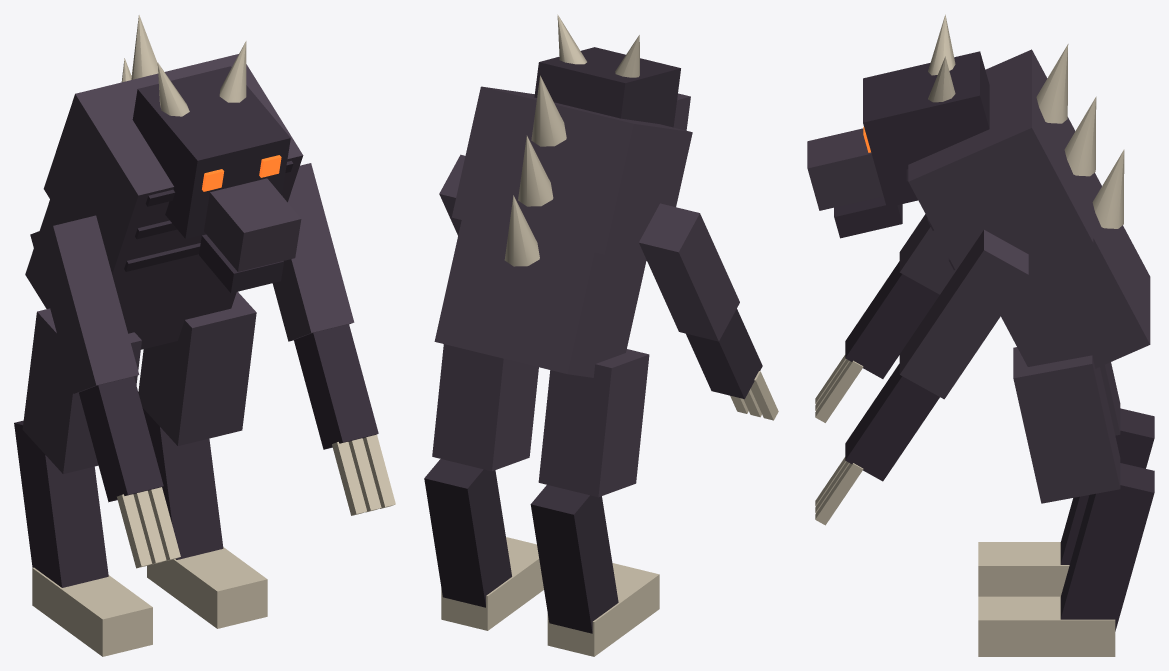
The model's file is hunter.glb.
3 views of the same model, side by side, from view 1: azimuth 30°, elevation 25°; view 2: azimuth 150°, elevation 25°; view 3: azimuth 270°, elevation 25° (orthographic). The views are drawn at different scales.
Parts seen in each view (by area): view 1: Thigh (×2), UpperArm (×2), Chest, Shin (×2), HeadSkull, Forearm (×2), ClawFoot (×2), Belly, Snout, Claw0 (×2), Claw1 (×2), Claw2 (×2) (+5 smaller); view 2: Belly, Thigh (×2), Chest, Shin (×2), UpperArm (×2), ClawFoot (×2), HeadSkull, Forearm, Spike0, Spike2, Spike1, HornR (+2 smaller); view 3: Chest, Belly, UpperArm (×2), Thigh (×2), Shin (×2), ClawFoot (×2), HeadSkull, Forearm (×2), Snout, Claw2 (×2), Jaw, Spike0 (+4 smaller).
Boxes of the visible parts, x1=… form: Thigh (×2): x1=22, y1=291, x2=256, y2=474; UpperArm (×2): x1=30, y1=163, x2=354, y2=393; Chest: x1=43, y1=54, x2=303, y2=288; Shin (×2): x1=14, y1=408, x2=223, y2=587; HeadSkull: x1=132, y1=66, x2=290, y2=238; Forearm (×2): x1=79, y1=324, x2=378, y2=502; ClawFoot (×2): x1=32, y1=547, x2=267, y2=656; Belly: x1=25, y1=199, x2=236, y2=349; Snout: x1=204, y1=178, x2=301, y2=271; Claw0 (×2): x1=117, y1=442, x2=366, y2=568; Claw1 (×2): x1=133, y1=438, x2=381, y2=564; Claw2 (×2): x1=148, y1=434, x2=395, y2=561; Belly: x1=434, y1=192, x2=646, y2=377; Thigh (×2): x1=432, y1=344, x2=649, y2=497; Chest: x1=451, y1=86, x2=692, y2=260; Shin (×2): x1=424, y1=459, x2=618, y2=633; UpperArm (×2): x1=439, y1=154, x2=739, y2=341; ClawFoot (×2): x1=441, y1=537, x2=659, y2=656; HeadSkull: x1=534, y1=47, x2=680, y2=127; Forearm: x1=686, y1=309, x2=762, y2=399; Spike0: x1=504, y1=195, x2=539, y2=266; Spike2: x1=531, y1=75, x2=566, y2=146; Spike1: x1=518, y1=135, x2=553, y2=206; HornR: x1=557, y1=14, x2=586, y2=64; Chest: x1=908, y1=49, x2=1093, y2=270; Belly: x1=1001, y1=172, x2=1150, y2=368; UpperArm (×2): x1=899, y1=214, x2=1028, y2=399; Thigh (×2): x1=1013, y1=347, x2=1120, y2=503; Shin (×2): x1=1060, y1=408, x2=1154, y2=631; ClawFoot (×2): x1=978, y1=542, x2=1115, y2=656; HeadSkull: x1=863, y1=51, x2=989, y2=207; Forearm (×2): x1=845, y1=261, x2=939, y2=481; Snout: x1=807, y1=128, x2=883, y2=210; Claw2 (×2): x1=815, y1=360, x2=863, y2=525; Jaw: x1=834, y1=196, x2=902, y2=238; Spike0: x1=1092, y1=149, x2=1124, y2=228.
Bounding box in the file's own units: 0.72 × 1.59 × 0.8606.
